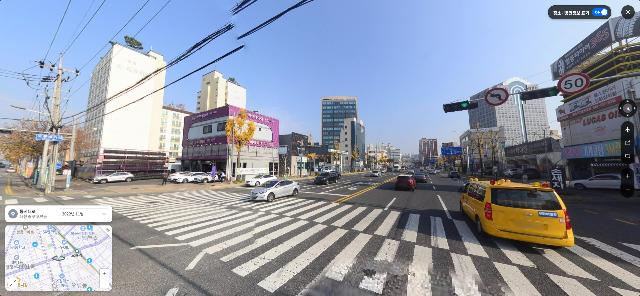ginkgo: (226, 109, 259, 183), (470, 129, 491, 176), (487, 126, 505, 175), (304, 139, 317, 176), (333, 140, 341, 172), (351, 149, 358, 171)
other: (524, 127, 556, 180), (284, 145, 293, 176)
